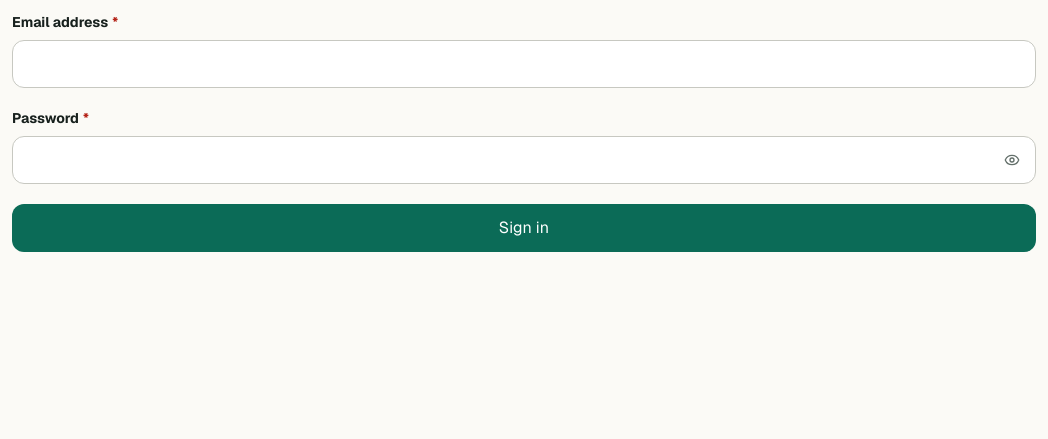
Test: login form › validates fields and toggles password visibility
Click the button "Sign in" at (524, 228), box [12, 204, 1036, 252]
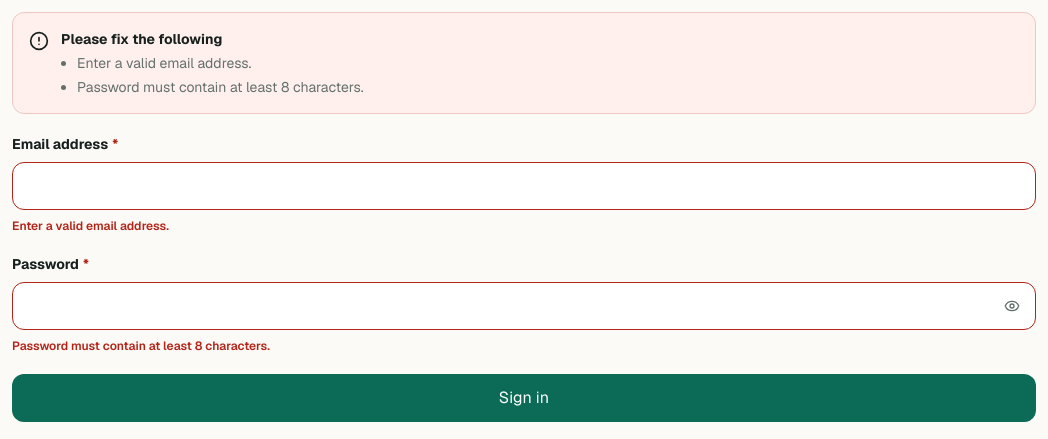
Result: the message shows "Enter a valid email address" at [77, 54, 251, 72]
Type "safe-sample-password" into the password field labelled "Password*" at (524, 306), box [12, 282, 1036, 330]
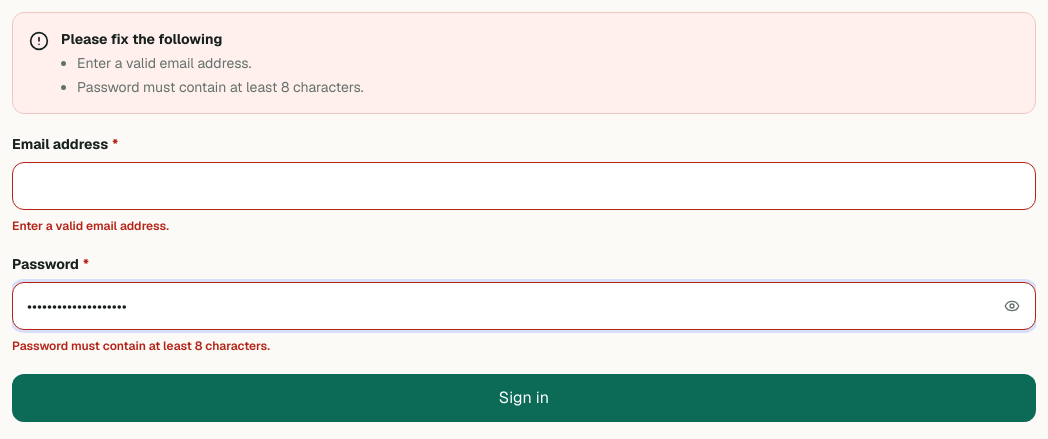
Click the button named "Show password" at (1012, 306), box [992, 286, 1032, 326]
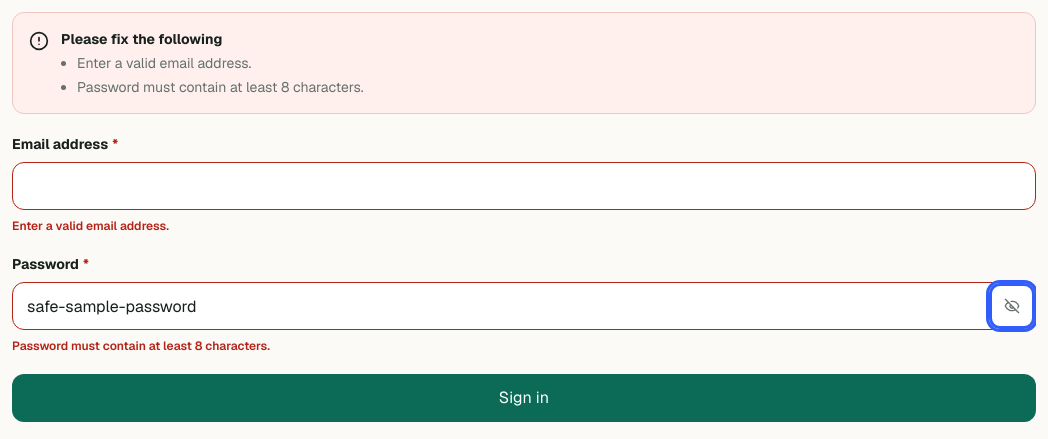
Result: the field labelled "Password*" shows its text at [12, 282, 1036, 330]
